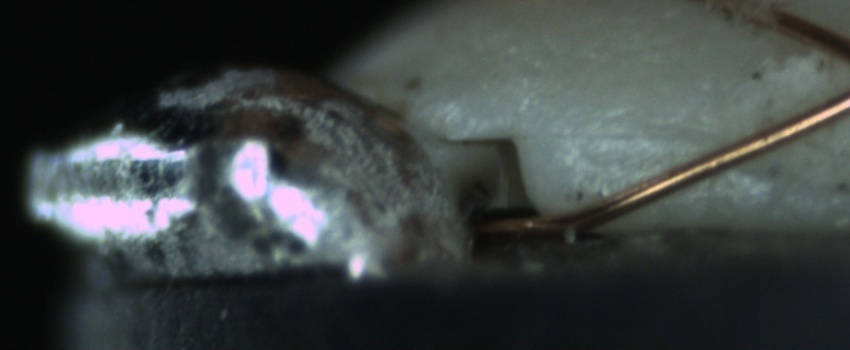DL: (557, 105, 719, 169)
